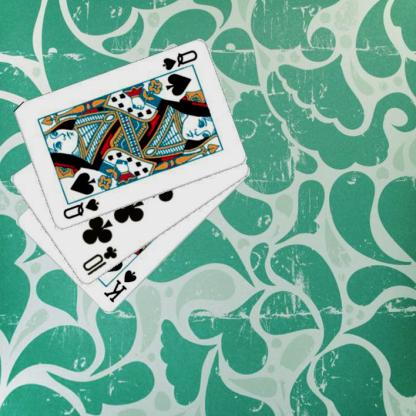10C: (79, 244, 119, 277)
KS: (101, 268, 138, 304)
QS: (60, 196, 100, 221), (159, 48, 199, 72)
